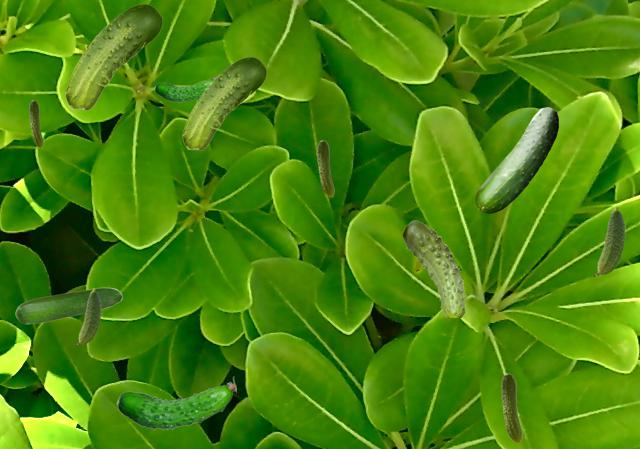cucumber: (65, 4, 161, 109), (475, 107, 557, 212), (182, 57, 265, 149), (116, 376, 235, 429), (402, 220, 465, 316), (15, 287, 121, 323), (593, 206, 624, 275), (154, 74, 216, 101), (75, 288, 100, 344), (501, 373, 521, 442), (317, 140, 333, 196), (29, 100, 42, 147)
